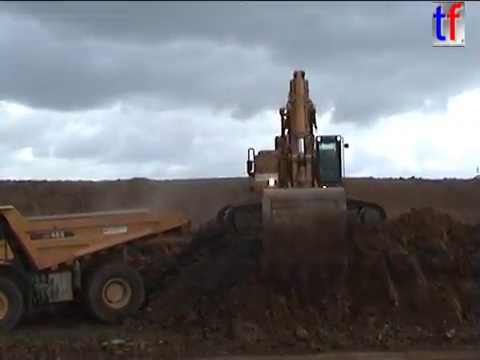excavator: (212, 67, 391, 289)
truck: (1, 202, 194, 337), (471, 163, 480, 187)
